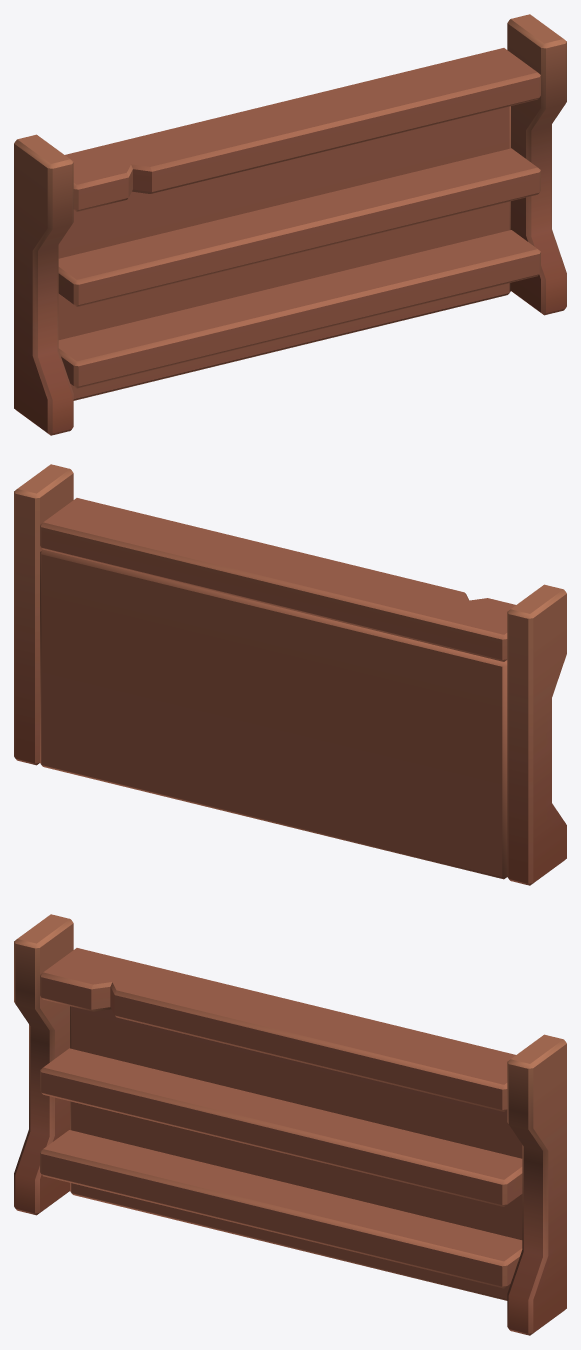
The model's file is bartop_b_large.glb.
3 views of the same model, one above another, from view 1: azimuth 30°, elevation 25°; view 2: azimuth 150°, elevation 25°; view 3: azimuth 330°, elevation 25° (orthographic).
Parts seen in each view (by area): view 1: bartop_B_large; view 2: bartop_B_large; view 3: bartop_B_large.
Boxes of the visible parts, box(x1,y1,x2,y2) form: bartop_B_large: box(14, 14, 566, 435); bartop_B_large: box(14, 464, 566, 885); bartop_B_large: box(14, 914, 566, 1335).
Bounding box in the file's own units: 4 × 2 × 0.5.
Materials: 1 (1 with a texture image).
